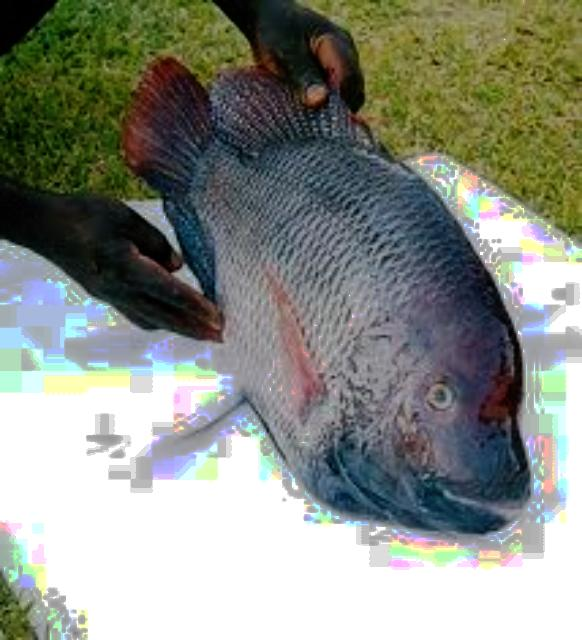Healthy Fish: (123, 54, 534, 539)
